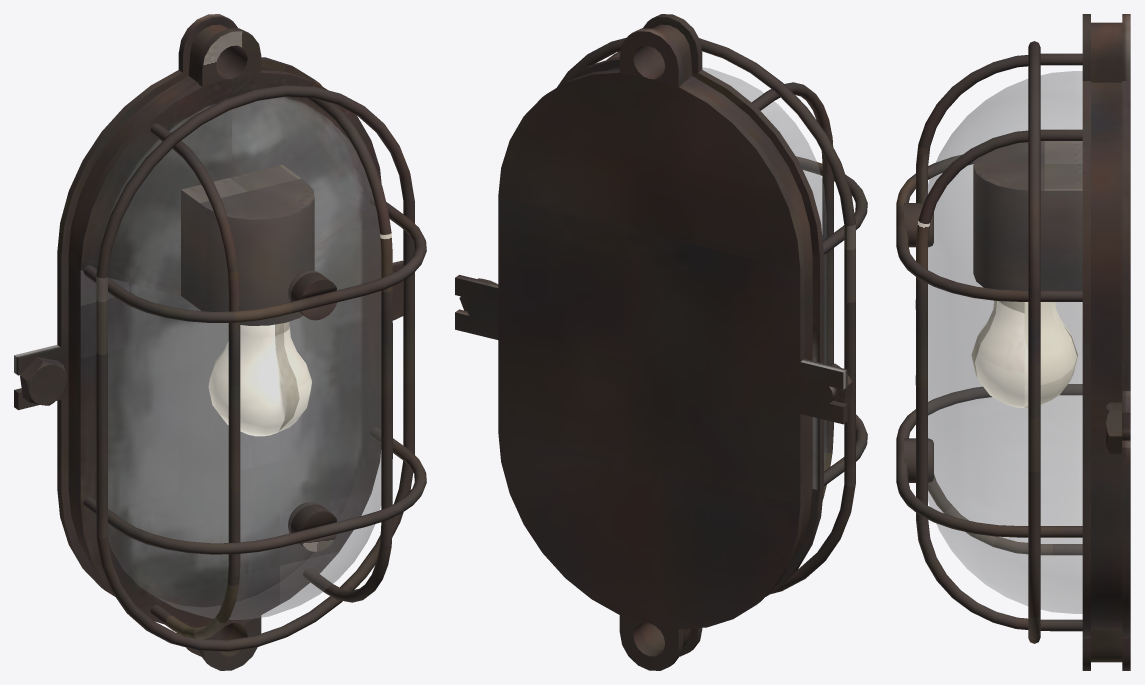
Rendered from wallLamp.glb.
3 renders of one model, left to right at view 1: azimuth 30°, elevation 25°; view 2: azimuth 150°, elevation 25°; view 3: azimuth 270°, elevation 25°, orthographic.
Parts seen in each view (by area): view 1: industrial_wall_lamp; view 2: industrial_wall_lamp; view 3: industrial_wall_lamp.
Boxes of the visible parts, x1,y1,x2,y2 form: industrial_wall_lamp: (14,14,426,670); industrial_wall_lamp: (455,14,867,670); industrial_wall_lamp: (896,14,1130,670).
Size of the model in its own units: 0.2734 by 0.4299 by 0.1404.
Materials: 2 (2 with a texture image).
